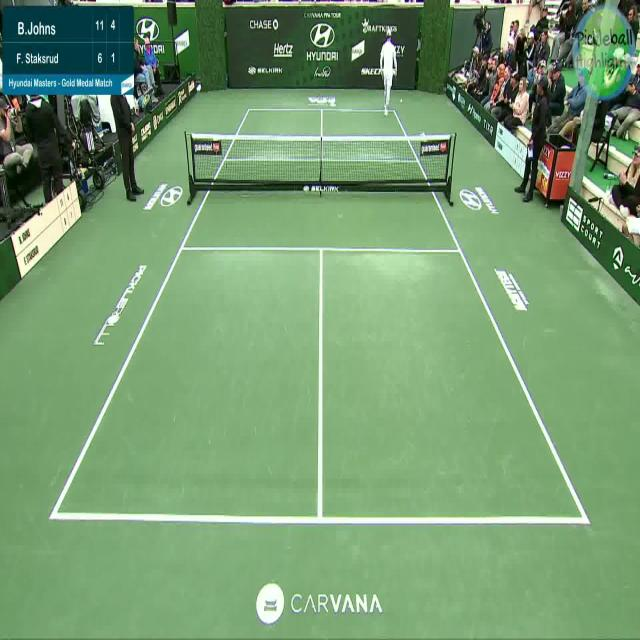ball: (400, 98, 403, 102)
